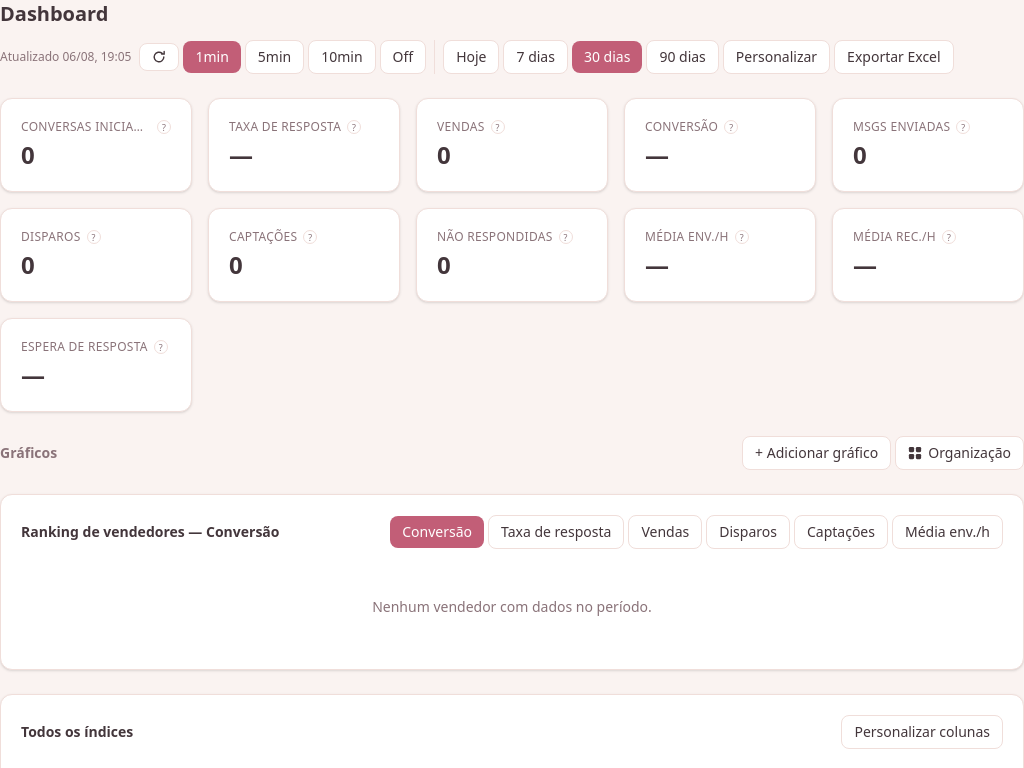
Scenario: DashboardPage › o dialog de métricas globais não traz colunas nem organização
Expected: the heading "Ranking de vendedores — Conversão" is shown, [21,522,280,542]
Step 1. Click the button "Personalizar" → coordinates (776, 57), box [723,40,830,74]
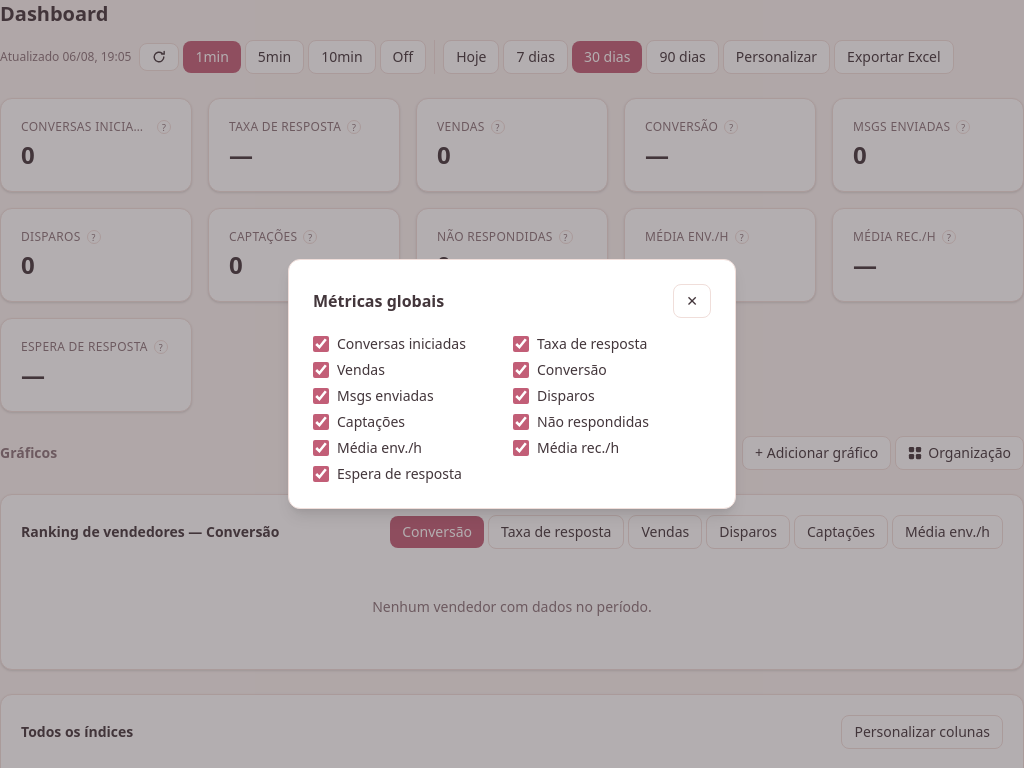
Result: the element with test id "customize-kpis" is shown at [313,334,649,483]
